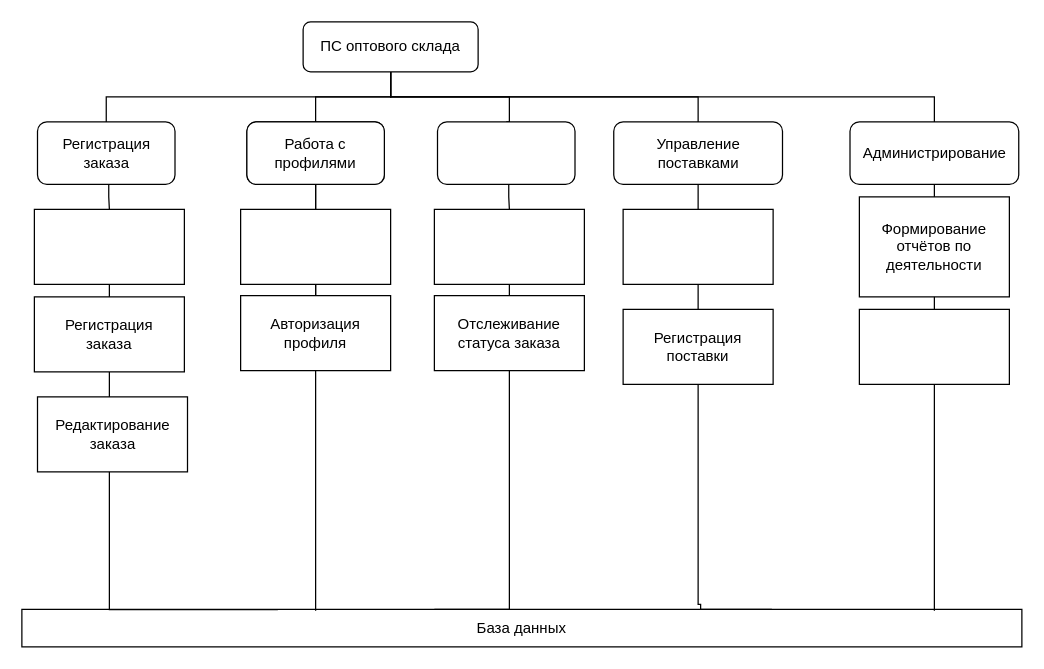
Some shapes in this 1044 by 669 pixel diagram are drawn without their labels. Each missing label, with the centre of its shape:
Ввод данных о заказе: point 108,246
Ввод данных о поставке: point 697,246
Поиск заказов и поставок: point 933,346
Проверка оплаты: point 508,246
Работа над заказами: point 505,152
Регистрация профиля: point 315,246
